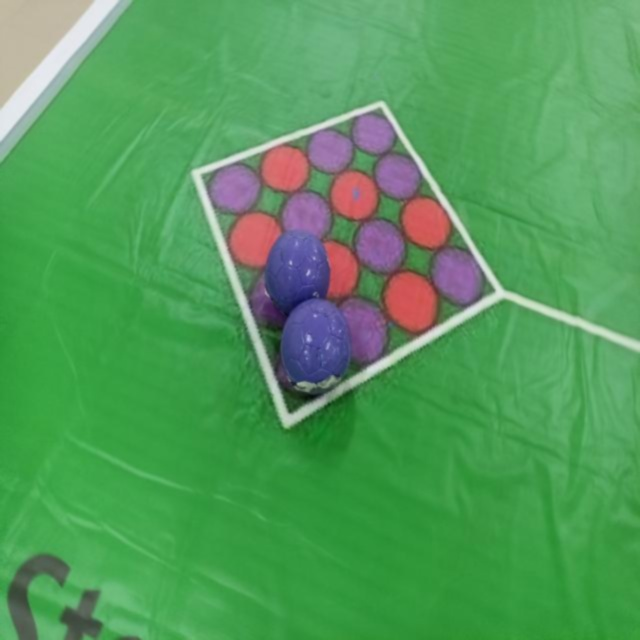purple_ball: (278, 297, 353, 396), (264, 228, 332, 319)
